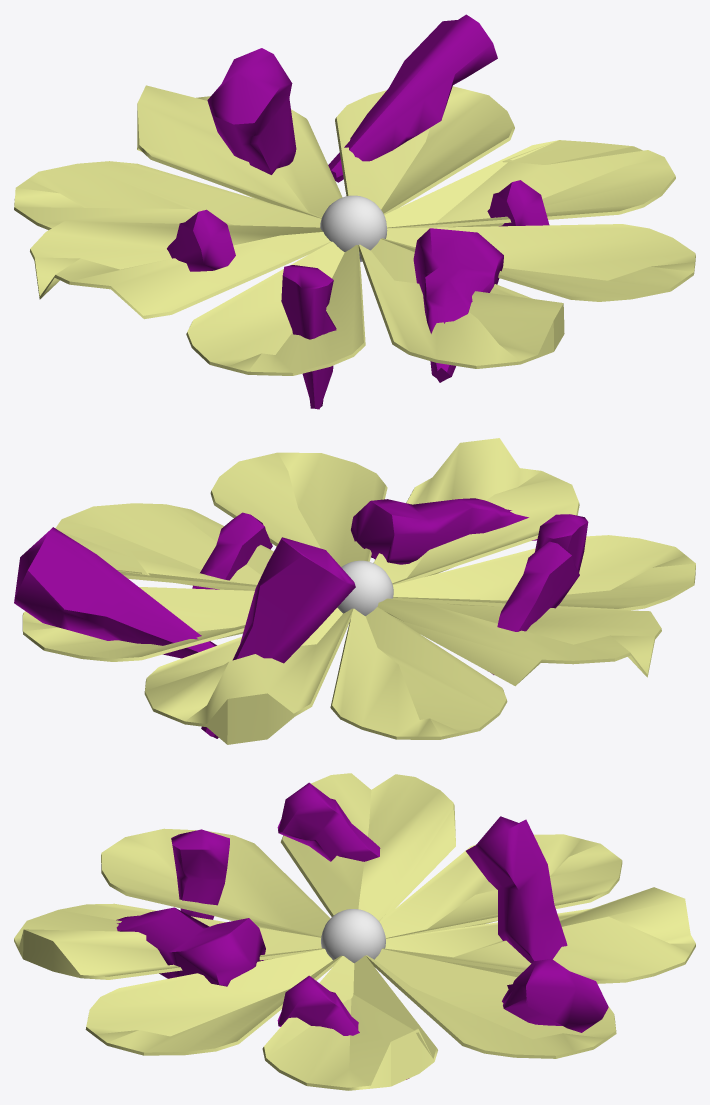
Rendered from FlowerBlight_L3.fbx.
The picture shows the model from 3 angles, top to bottom: view 1: azimuth 30°, elevation 25°; view 2: azimuth 150°, elevation 25°; view 3: azimuth 270°, elevation 25°; orthographic projection. The views are drawn at different scales.
Parts seen in each view (by area): view 1: Flower8; view 2: Flower8; view 3: Flower8.
Part boxes in pixels (bbox=[...]): Flower8: bbox=[14, 14, 695, 409]; Flower8: bbox=[14, 438, 695, 744]; Flower8: bbox=[14, 773, 695, 1090].
Bounding box in the file's own units: 13.65 × 4.46 × 13.66.
